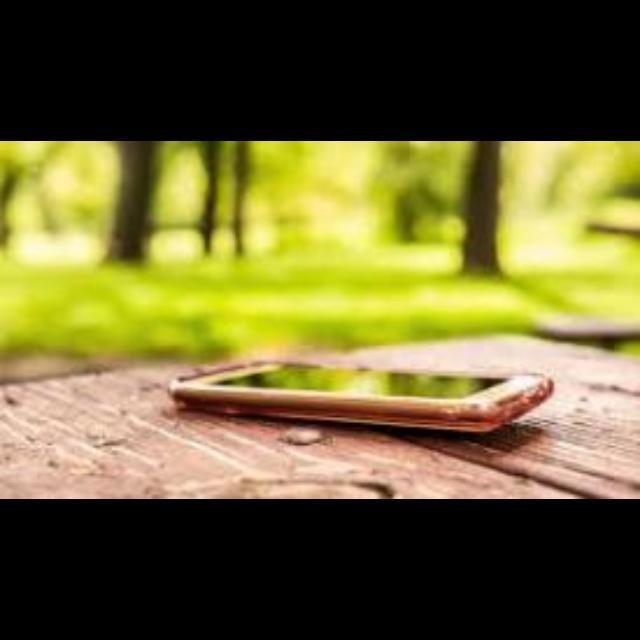PhoneUse: (173, 350, 563, 444)
